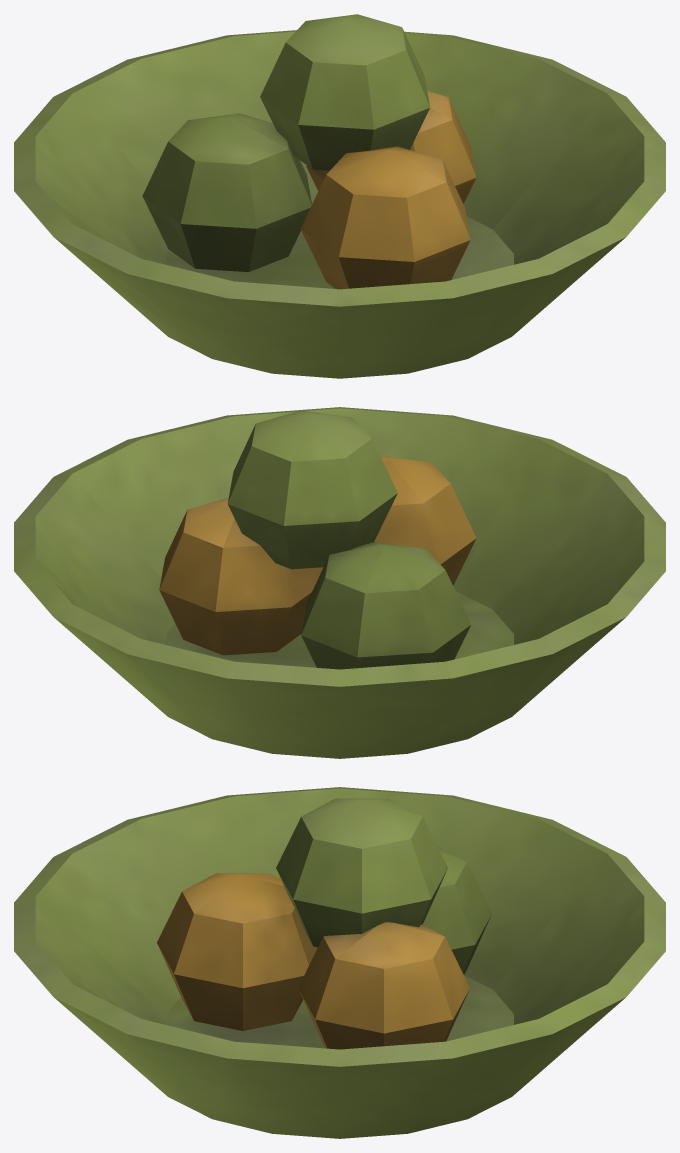
Rendered from H_FruitBowl.fbx.
3 views of the same model, one above another, from view 1: azimuth 30°, elevation 25°; view 2: azimuth 150°, elevation 25°; view 3: azimuth 270°, elevation 25° (orthographic).
Visible parts, largest first — view 1: H_FruitBowl; view 2: H_FruitBowl; view 3: H_FruitBowl.
Boxes of the visible parts, x1,y1,x2,y2 form: H_FruitBowl: [14, 14, 665, 378]; H_FruitBowl: [14, 407, 665, 758]; H_FruitBowl: [14, 787, 665, 1138].
Size of the model in its own units: 150 by 66 by 148.
1 material, 1 textured.
